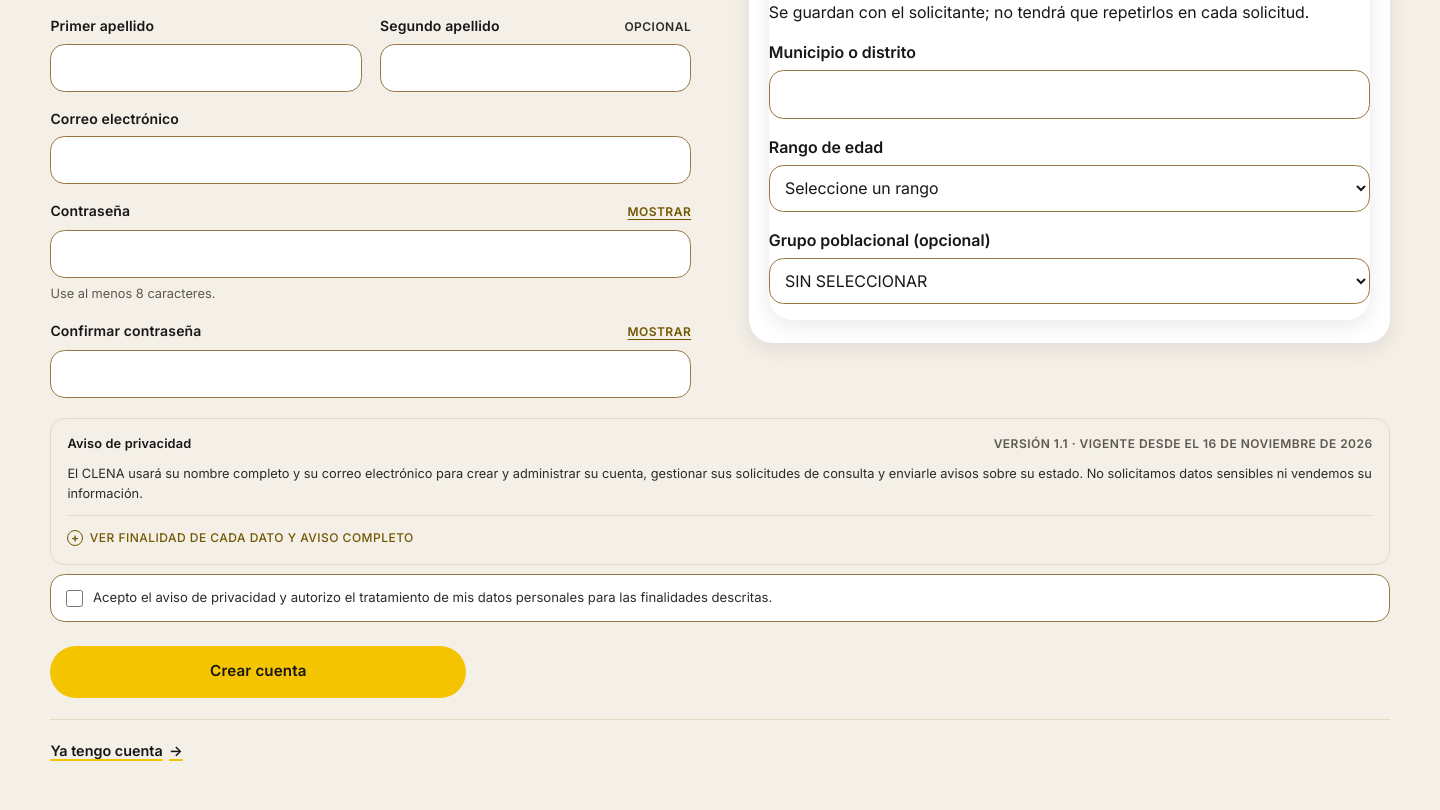
it: RegisterPage › explains the purpose of every data field in the privacy notice
The width and height of the screenshot is (1440, 810).
(page scrolled)
Click the heading "Ver finalidad de cada dato y aviso completo" at (241, 538), box [67,530,414,548]
(page scrolled)
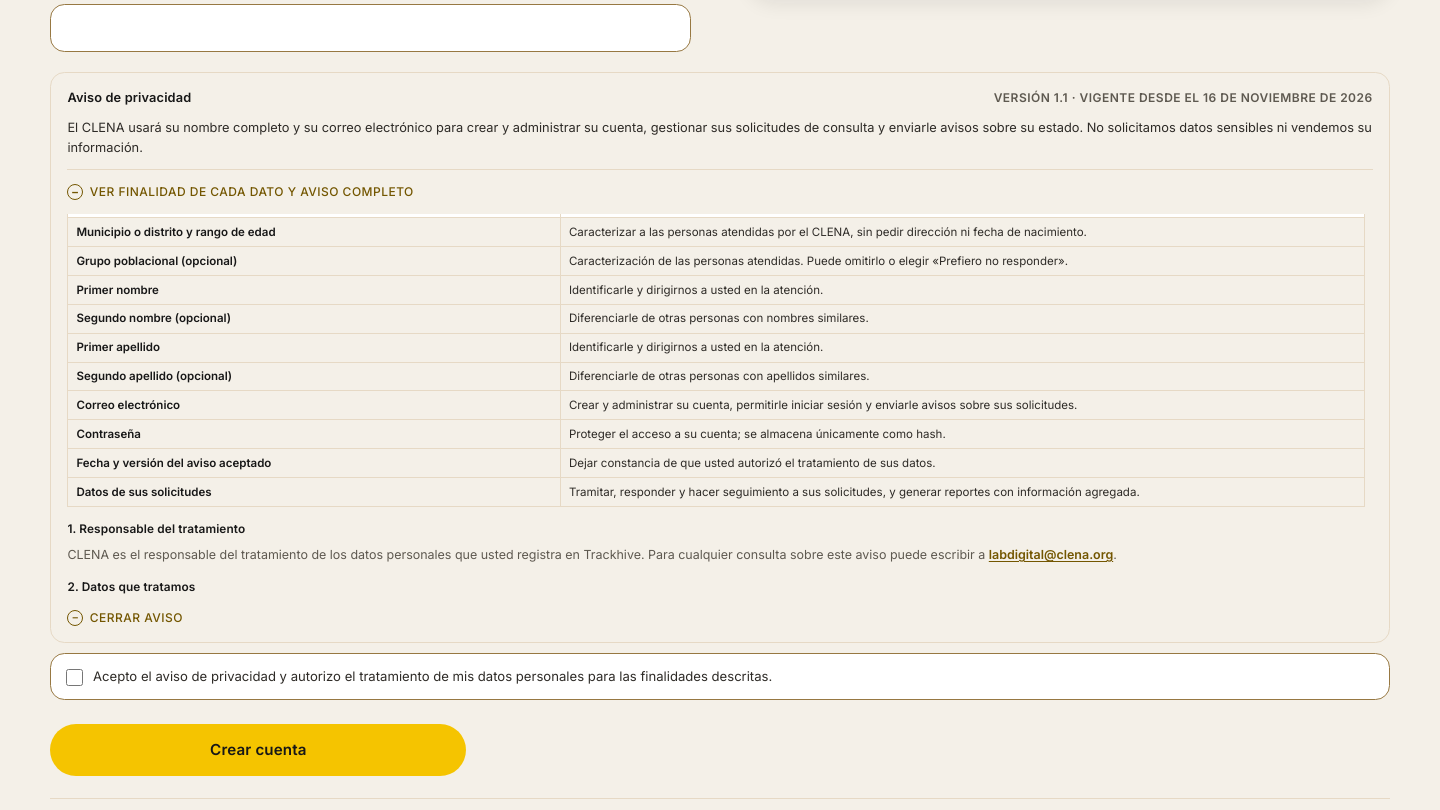
Expected: the column heading "Primer nombre" is shown, [68,275,560,304]
Expected: the column heading "Segundo nombre (opcional)" is shown, [68,304,560,333]
Expected: the column heading "Primer apellido" is shown, [68,333,560,362]
